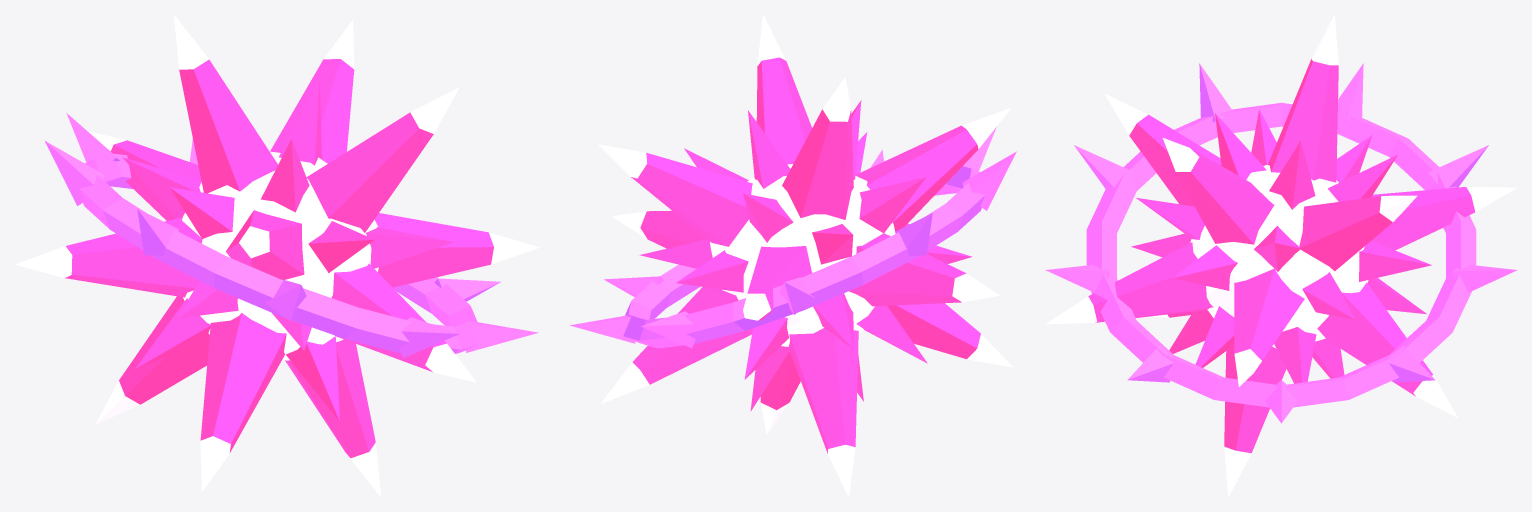
File: spark_super.glb
The picture shows the model from 3 angles, left to right: view 1: azimuth 30°, elevation 25°; view 2: azimuth 150°, elevation 25°; view 3: azimuth 270°, elevation 25°; orthographic projection. The views are drawn at different scales.
Visible parts, largest first — view 1: spark_super; view 2: spark_super; view 3: spark_super.
Boxes of the visible parts, x1,y1,x2,y2 form: spark_super: (15,14,539,497); spark_super: (569,14,1016,497); spark_super: (1045,15,1517,496).
Bounding box in the file's own units: 0.5082 × 0.4833 × 0.4924.
